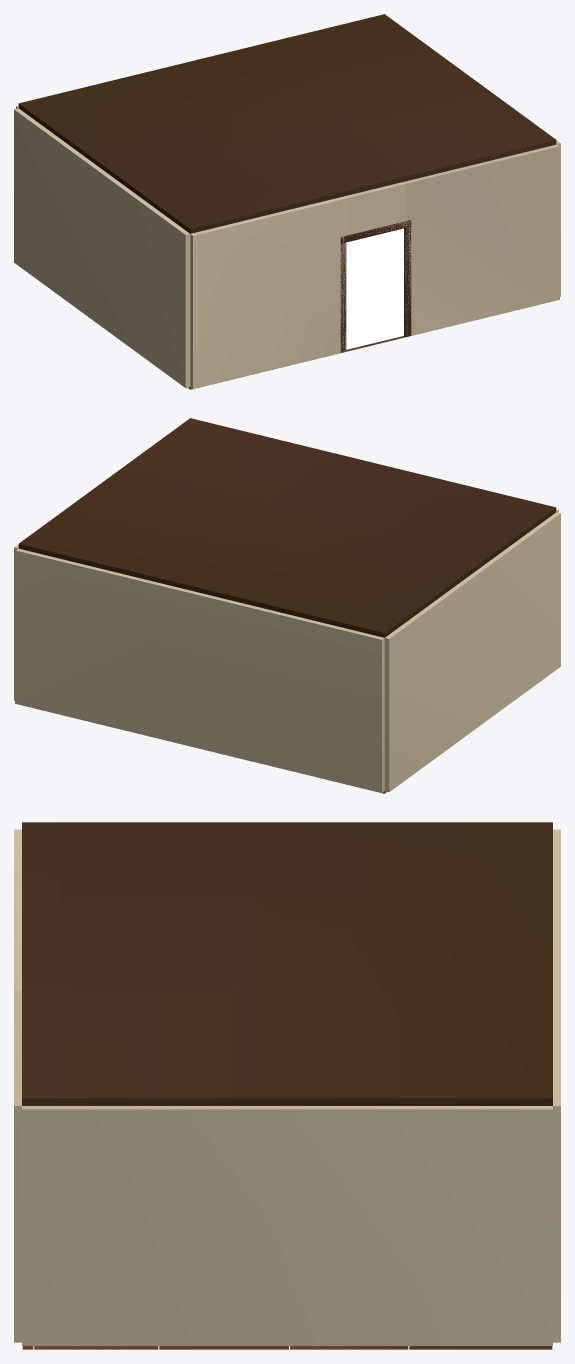
File: room_home.glb
3 renders of one model, top to bottom at view 1: azimuth 30°, elevation 25°; view 2: azimuth 150°, elevation 25°; view 3: azimuth 270°, elevation 25°, orthographic. The views are drawn at different scales.
Visible parts, largest first — view 1: room_home; view 2: room_home; view 3: room_home.
Part boxes in pixels (bbox=[...]): room_home: bbox=[14, 14, 560, 389]; room_home: bbox=[14, 418, 560, 793]; room_home: bbox=[14, 822, 560, 1349].
Size of the model in its own units: 8.2 by 3.36 by 6.7.
